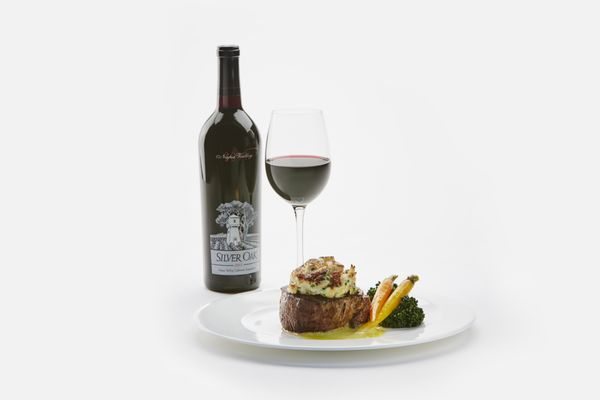curry: (377, 295, 425, 327)
